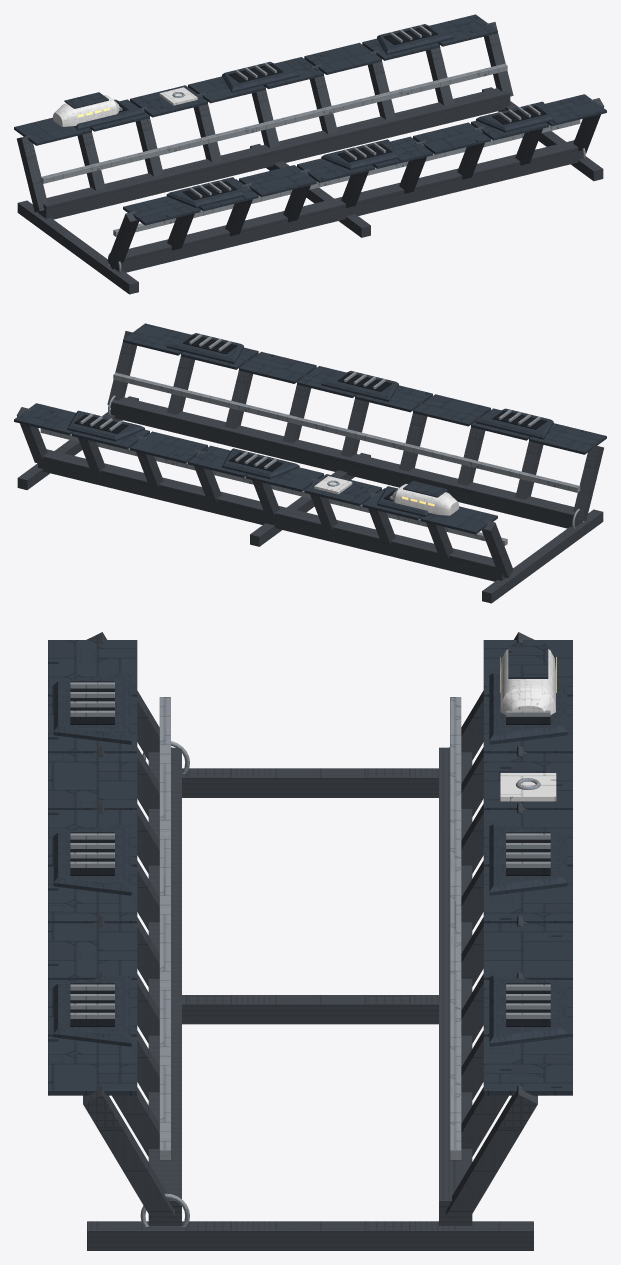
File: large_launch_trench_bank_lod1.glb
3 renders of one model, top to bottom at view 1: azimuth 30°, elevation 25°; view 2: azimuth 150°, elevation 25°; view 3: azimuth 270°, elevation 25°, orthographic. The views are drawn at different scales.
Parts seen in each view (by area): view 1: LOD1_Mechanical, LOD1_Hull, LOD1_BrushedMetal, LOD1_MechanicalDark, LOD1_Armor; view 2: LOD1_Mechanical, LOD1_Hull, LOD1_BrushedMetal, LOD1_MechanicalDark, LOD1_Armor; view 3: LOD1_Mechanical, LOD1_Hull, LOD1_BrushedMetal, LOD1_MechanicalDark, LOD1_Armor.
Part boxes in pixels (x1,y1,x2,y2): LOD1_Mechanical: (17,22,604,294); LOD1_Hull: (14,14,606,225); LOD1_BrushedMetal: (40,25,585,272); LOD1_MechanicalDark: (116,26,546,200); LOD1_Armor: (53,87,197,126); LOD1_Mechanical: (16,331,603,603); LOD1_Hull: (14,323,606,534); LOD1_BrushedMetal: (40,334,584,545); LOD1_MechanicalDark: (74,335,546,501); LOD1_Armor: (314,476,458,515); LOD1_Mechanical: (83,632,537,1250); LOD1_Hull: (48,640,572,1095); LOD1_BrushedMetal: (70,682,550,1226); LOD1_MechanicalDark: (70,681,550,1026); LOD1_Armor: (500,649,556,801).
Size of the model in its own units: 98 by 19.24 by 47.
6 materials, 5 textured.
